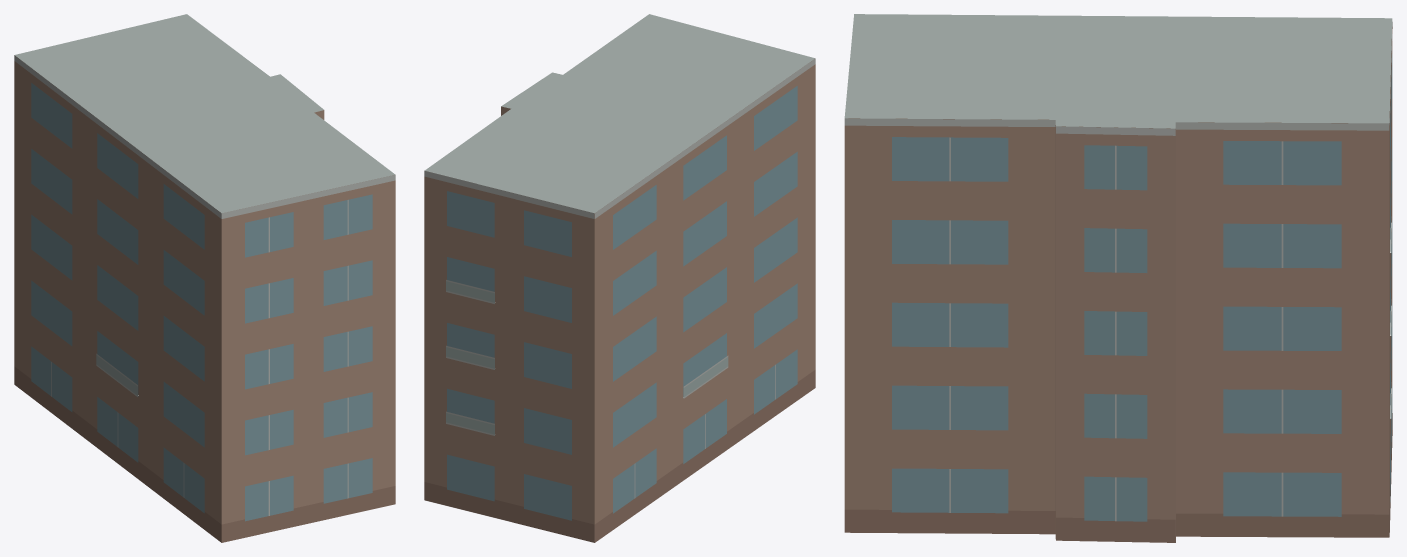
The model's file is survey-upis-32894377.glb.
The picture shows the model from 3 angles, left to right: view 1: azimuth 30°, elevation 25°; view 2: azimuth 150°, elevation 25°; view 3: azimuth 270°, elevation 25°; orthographic projection. The views are drawn at different scales.
Visible parts, largest first — view 1: survey-upis-32894377.tmp; view 2: survey-upis-32894377.tmp; view 3: survey-upis-32894377.tmp.
Boxes of the visible parts, x1=… form: survey-upis-32894377.tmp: x1=14, y1=14, x2=395, y2=542; survey-upis-32894377.tmp: x1=424, y1=14, x2=815, y2=542; survey-upis-32894377.tmp: x1=844, y1=14, x2=1392, y2=542.
Size of the model in its own units: 8.19 by 13.8 by 16.55.
